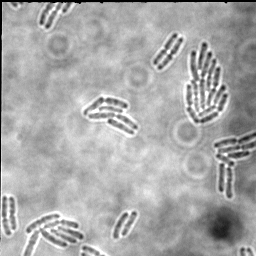Dividing: (156, 36, 186, 72), (152, 32, 179, 67), (44, 2, 64, 30), (1, 195, 12, 237), (38, 2, 55, 26), (7, 196, 18, 231)
Microcolony: (184, 41, 229, 126), (214, 129, 256, 199), (22, 213, 84, 255), (82, 96, 139, 136)
Rod: (112, 211, 129, 241), (121, 210, 139, 237)
